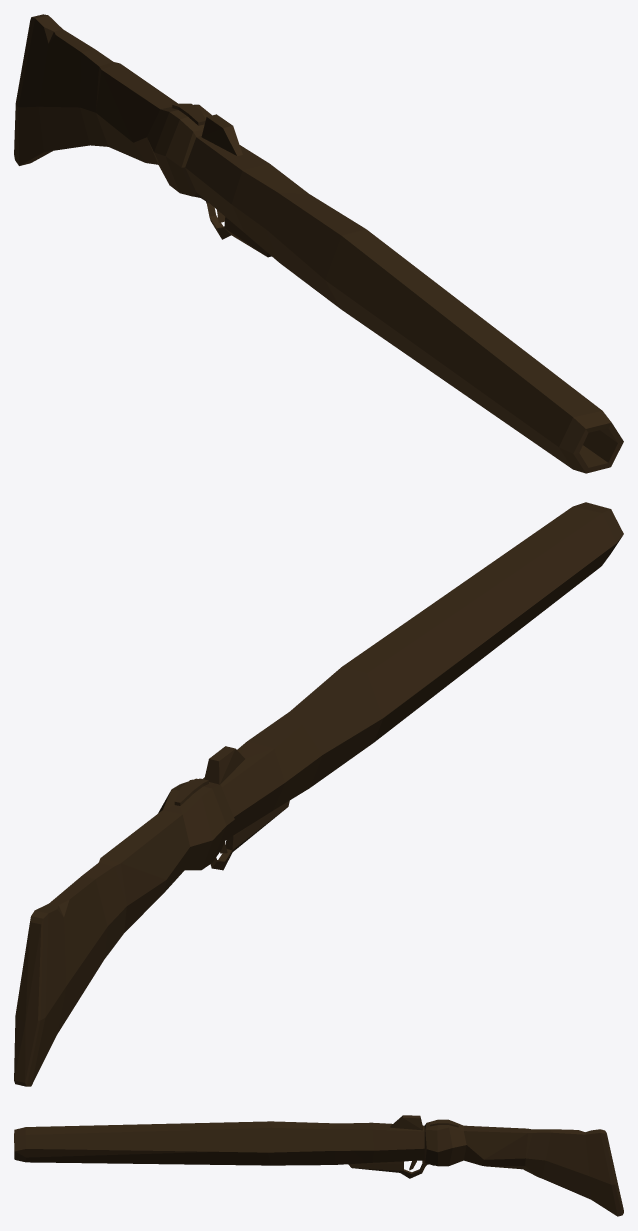
The model's file is gun.fbx.
3 renders of one model, top to bottom at view 1: azimuth 30°, elevation 25°; view 2: azimuth 150°, elevation 25°; view 3: azimuth 270°, elevation 25°, orthographic. The views are drawn at different scales.
Parts seen in each view (by area): view 1: gun; view 2: gun; view 3: gun.
Part boxes in pixels (x1=…): gun: x1=14, y1=14, x2=623, y2=473; gun: x1=14, y1=502, x2=623, y2=1086; gun: x1=14, y1=1115, x2=623, y2=1216.
Bounding box in the file's own units: 13.2 × 39.26 × 220.
